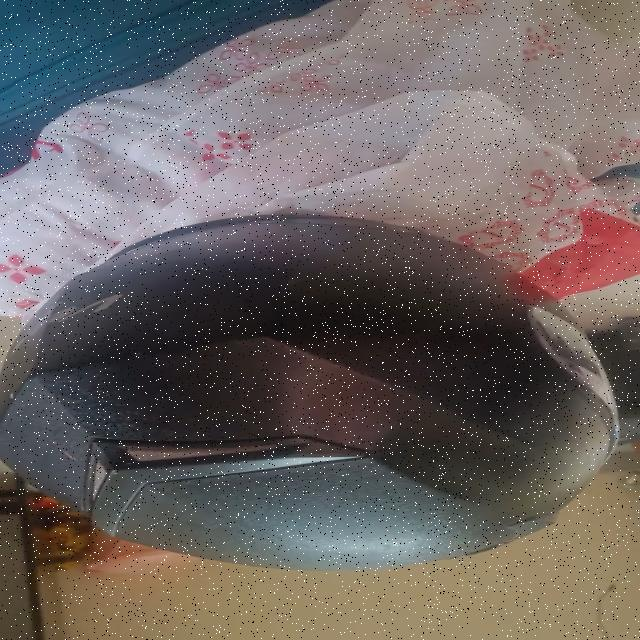Helmet: (0, 212, 620, 570)
